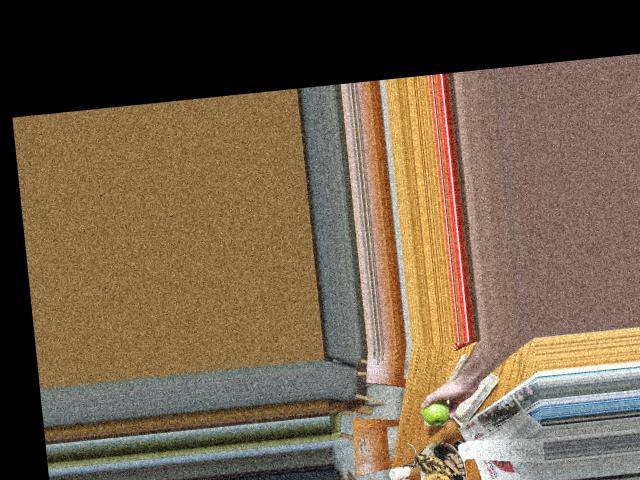apple: (416, 393, 453, 427)
